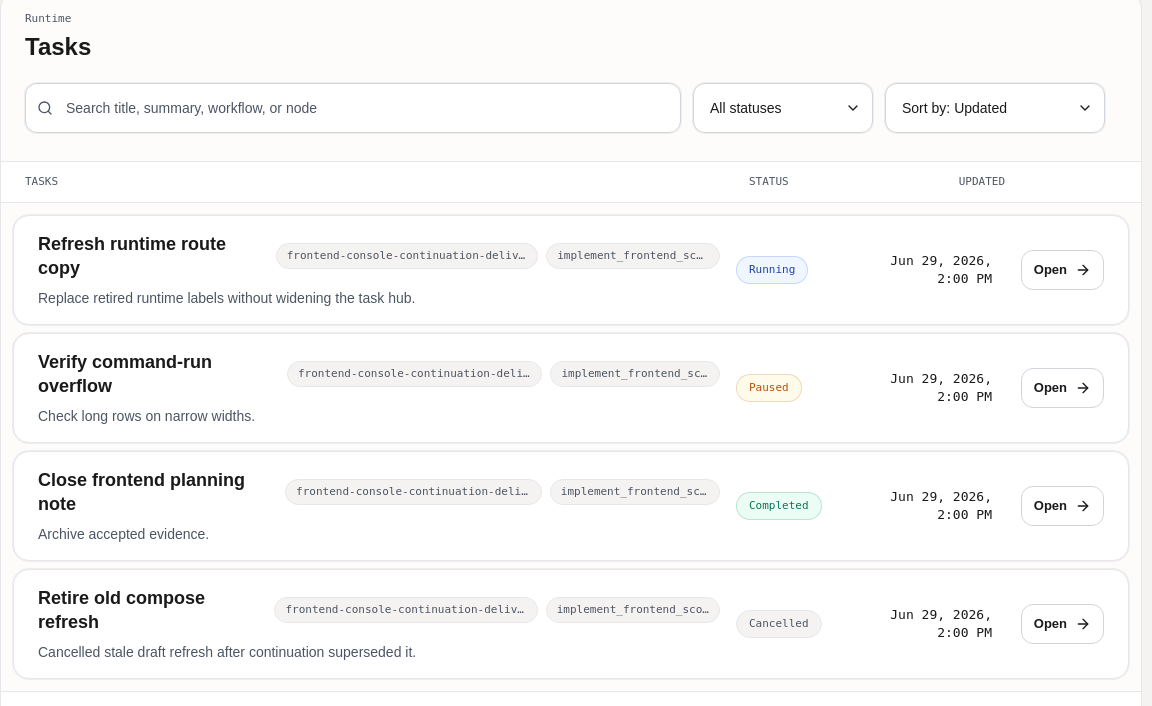
Scenario: TasksPage › does not reuse a stale load-more cursor while changed criteria are pending
The width and height of the screenshot is (1152, 706).
Expected: the heading "Refresh runtime route copy" is shown, [38, 234, 226, 278]
Type "route copy" into the search field labelled "Search" at (353, 108), box [25, 83, 681, 133]
(page scrolled)
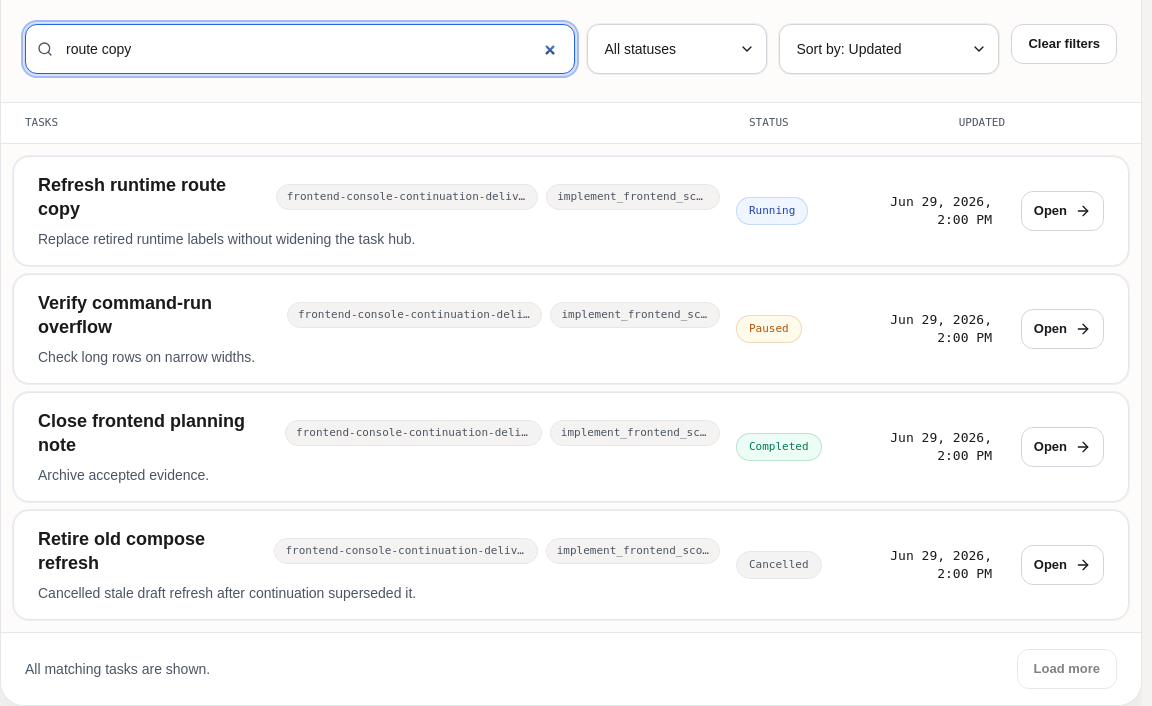
Now the button "Load more" is disabled
Click the button "Load more" at (1067, 669), box [1016, 649, 1117, 689]
(page scrolled)
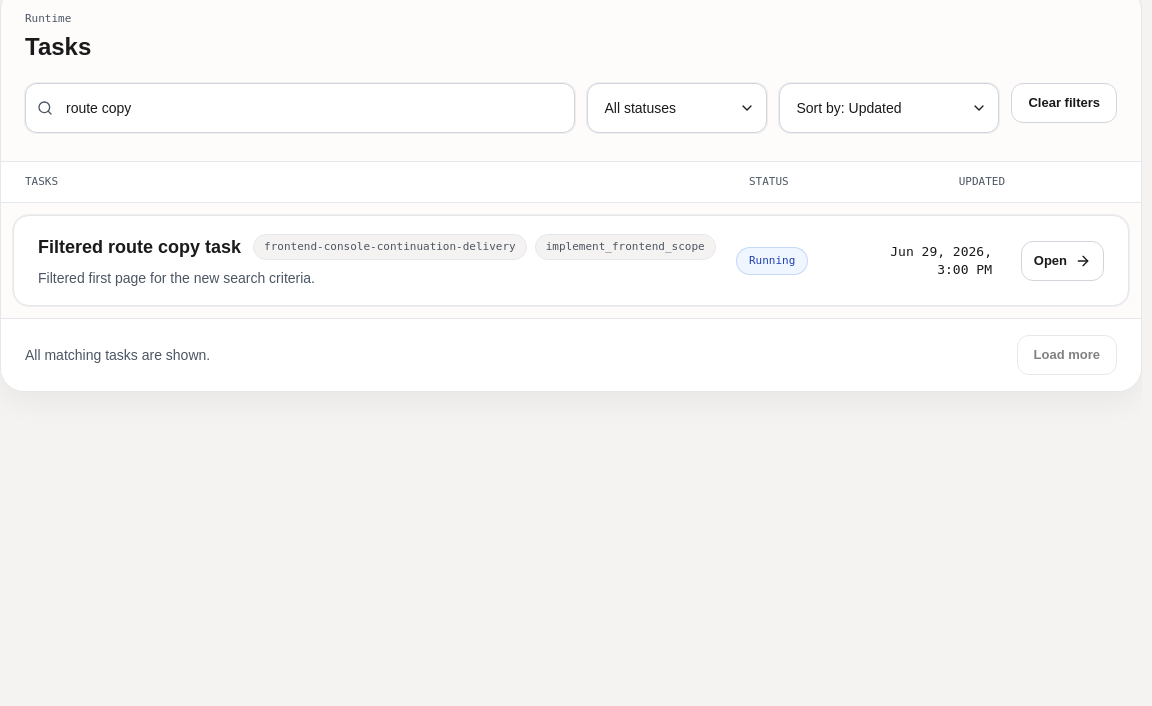
Now the heading "Filtered route copy task" is shown, box [38, 234, 241, 258]
